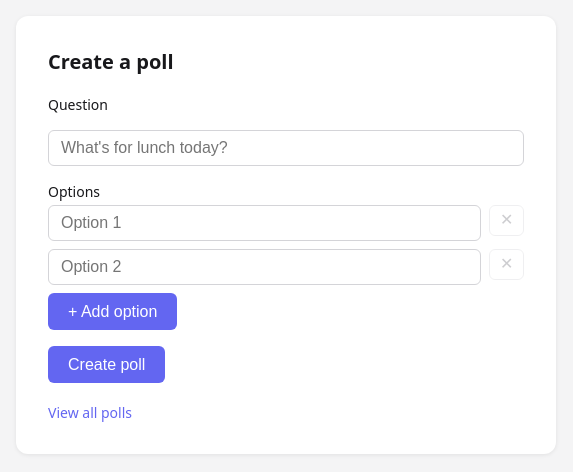
Test: CreatePollForm › shows the shareable link after successful creation
In the field labelled "Question": (286, 148) top-left (48, 130), bottom-right (524, 166), type "Best food?"
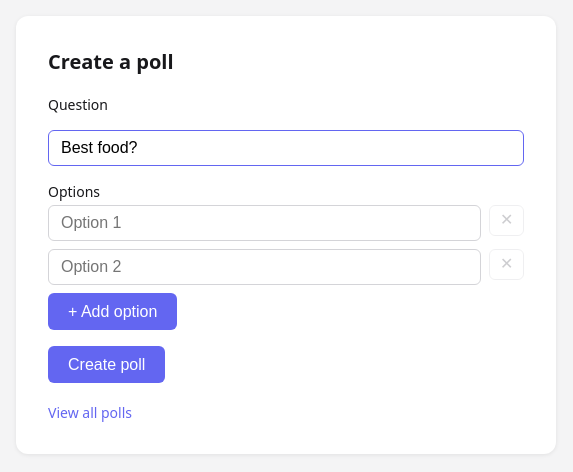
In the field with placeholder "Option 1": (265, 223) top-left (48, 205), bottom-right (481, 241), type "Pizza"
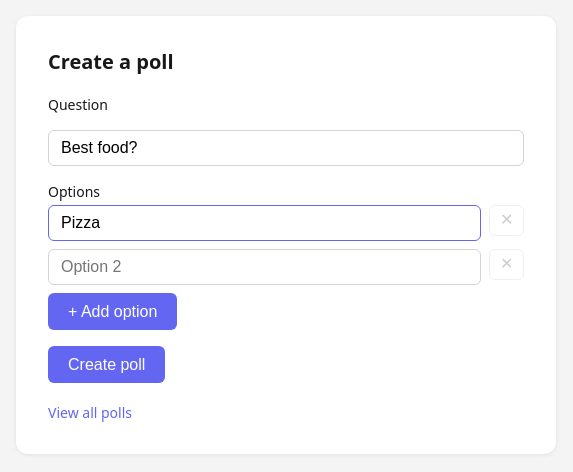
In the field with placeholder "Option 2": (265, 267) top-left (48, 249), bottom-right (481, 285), type "Tacos"
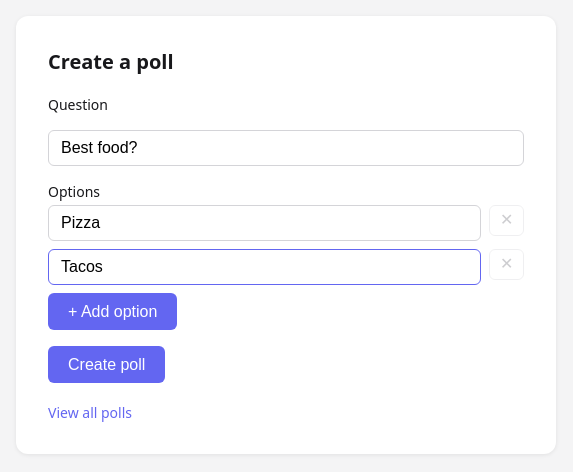
Click the button "Create poll": click(107, 365) top-left (48, 346), bottom-right (165, 383)
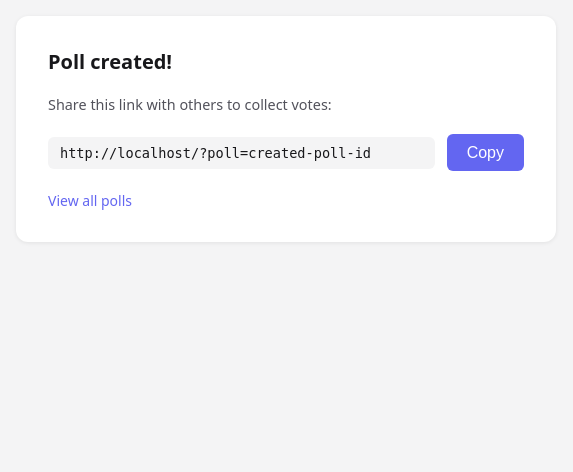
Now the heading "Poll created!" is shown, box top-left (48, 48), bottom-right (172, 75)
Now the text "created-poll-id" is shown, box top-left (60, 145), bottom-right (371, 161)
